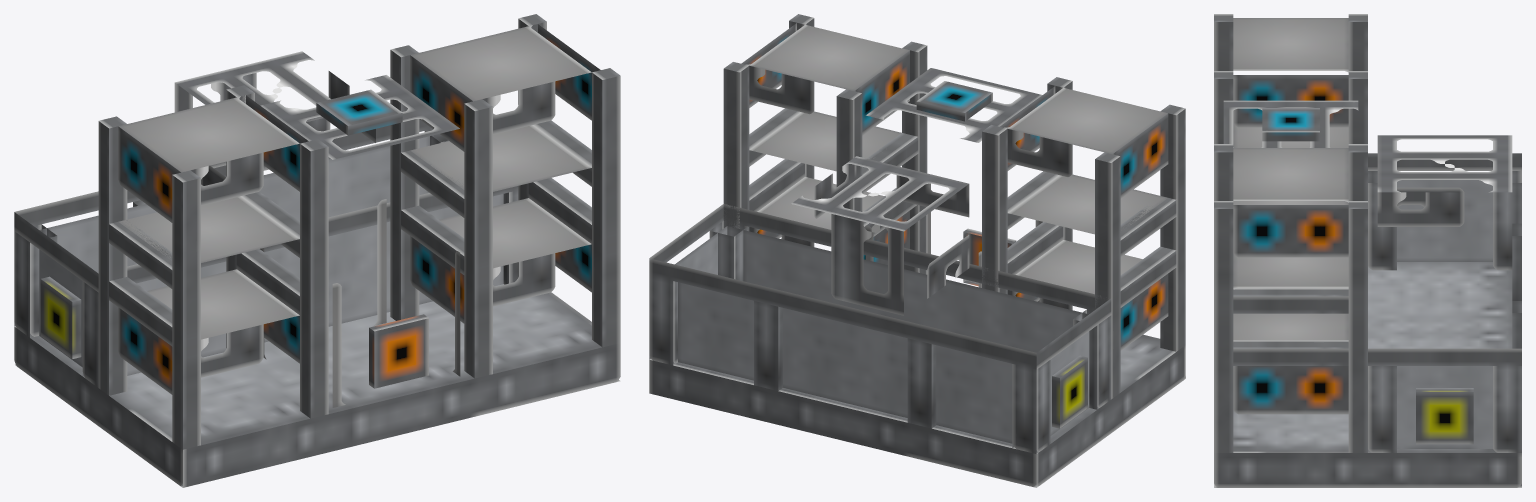
The model's file is chemicalreactor.obj.
3 views of the same model, side by side, from view 1: azimuth 30°, elevation 25°; view 2: azimuth 150°, elevation 25°; view 3: azimuth 270°, elevation 25° (orthographic). The views are drawn at different scales.
Visible parts, largest first — view 1: Hull; view 2: Hull; view 3: Hull.
Boxes of the visible parts, left/top/right/bottom form: Hull: left=14, top=14, right=620, bottom=487; Hull: left=649, top=14, right=1185, bottom=487; Hull: left=1214, top=14, right=1521, bottom=487.
Size of the model in its own units: 3 by 2 by 2.
